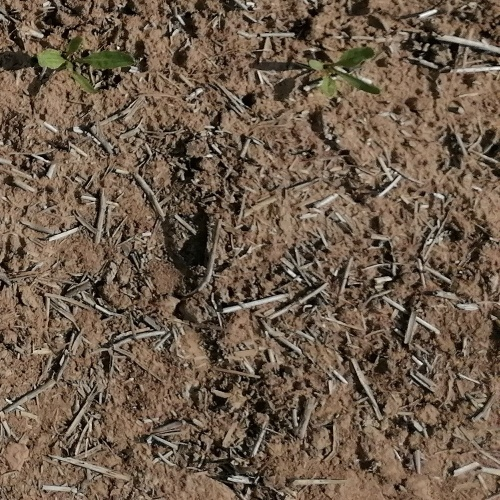beet: (35, 35, 136, 93), (306, 47, 380, 97)
